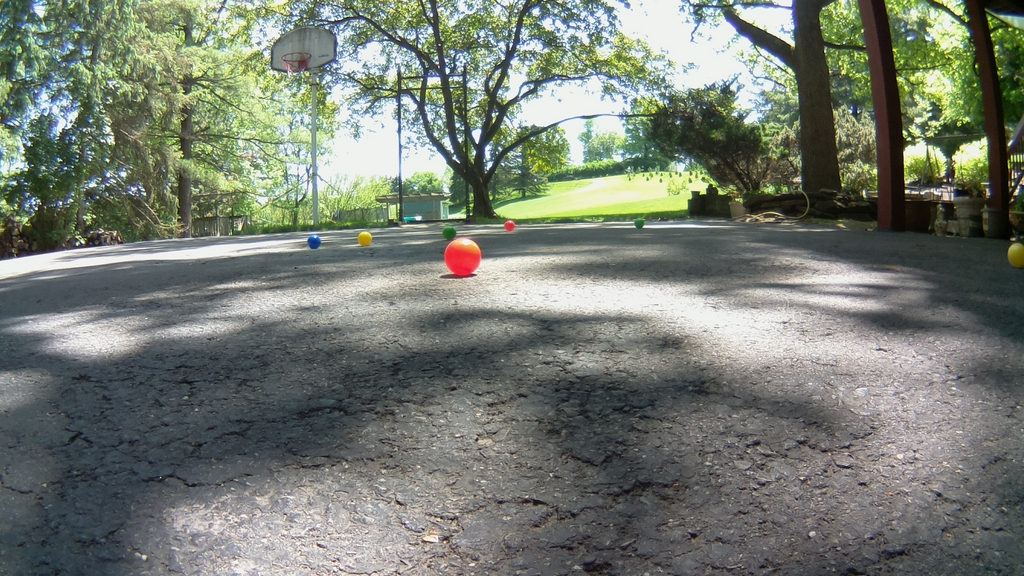ball: (445, 227, 455, 236)
